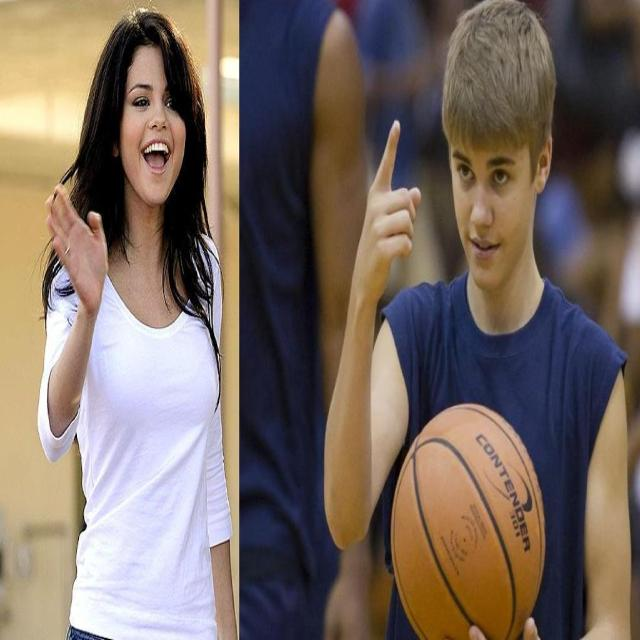Face: (446, 126, 542, 287), (123, 34, 194, 218)
